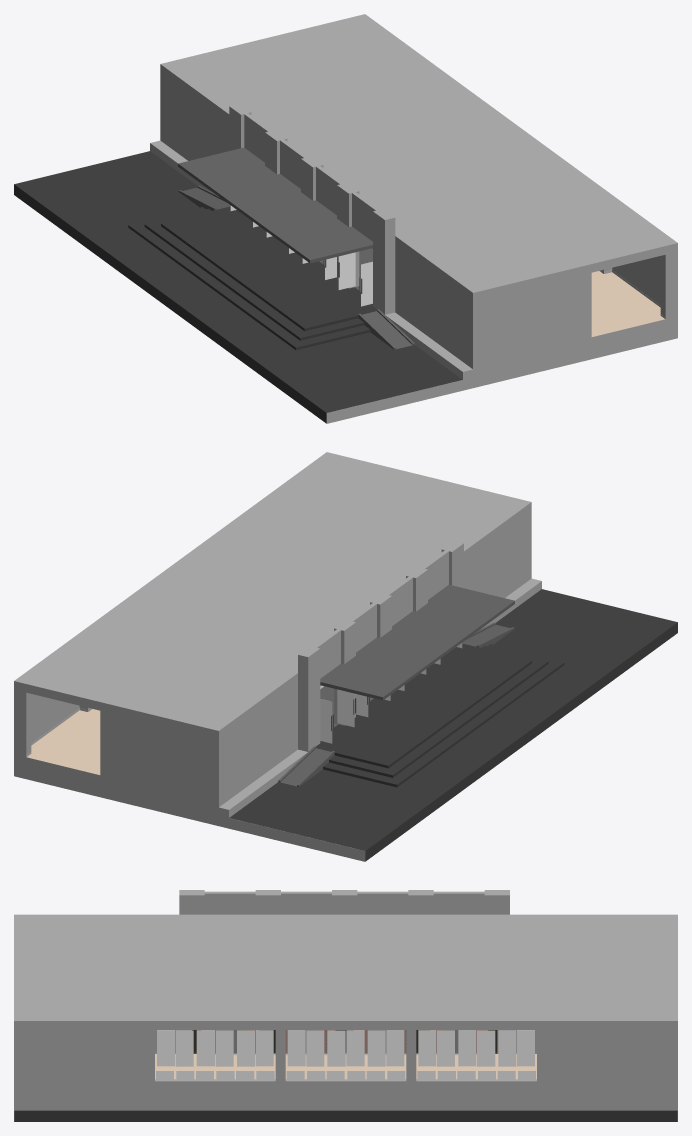
Rendered from anime-school-entrance-light.glb.
3 renders of one model, top to bottom at view 1: azimuth 30°, elevation 25°; view 2: azimuth 150°, elevation 25°; view 3: azimuth 270°, elevation 25°, orthographic. The views are drawn at different scales.
Parts seen in each view (by area): view 1: Object_6; view 2: Object_6; view 3: Object_6.
Boxes of the visible parts, x1,y1,x2,y2 form: Object_6: (14, 14, 677, 423); Object_6: (14, 452, 677, 861); Object_6: (14, 890, 677, 1121).
Bounding box in the file's own units: 17.06 × 5.27 × 26.32.
Materials: 2 (2 with a texture image).
